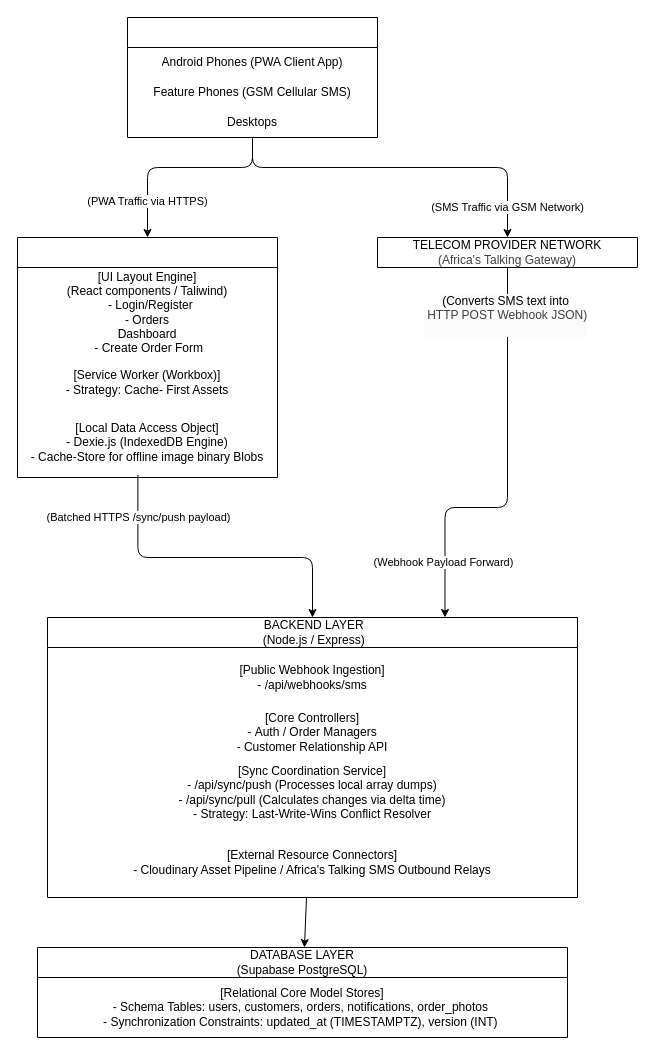
This 655x1055 diagram has some shape labels left out. Here are the shapes that lost their labels. From the top down, the box of each, then its label:
(126, 16, 378, 138): USER DEVICES
(16, 236, 278, 478): FRONTEND APPLICATION LAYER (Offline-First PWA)
